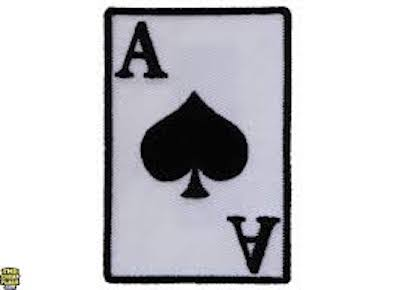AceOfSpades: (103, 5, 293, 286)
